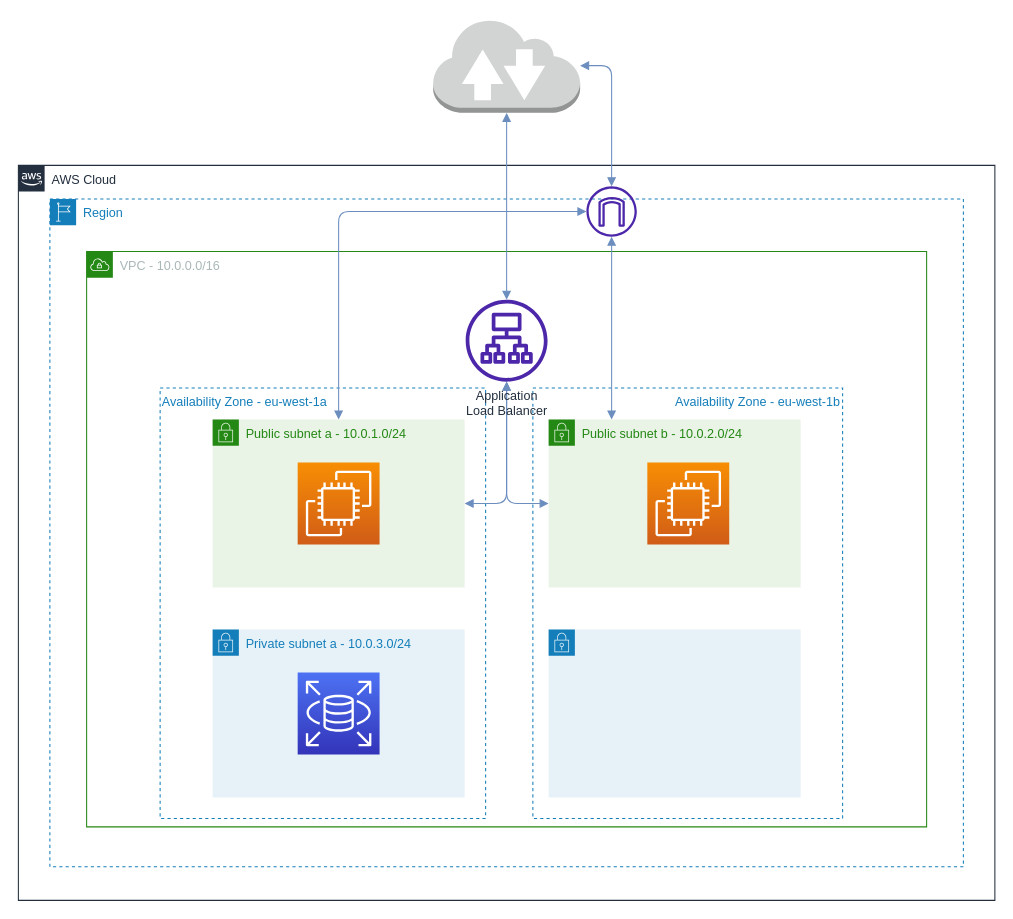
This 1013x919 diagram has some shape labels left out. Each missing label, with the centre of its shape:
Internet: the point at 506,65
Internet Gateway: the point at 611,211
Private subnet b -10.0.4.0/24: the point at 674,712
